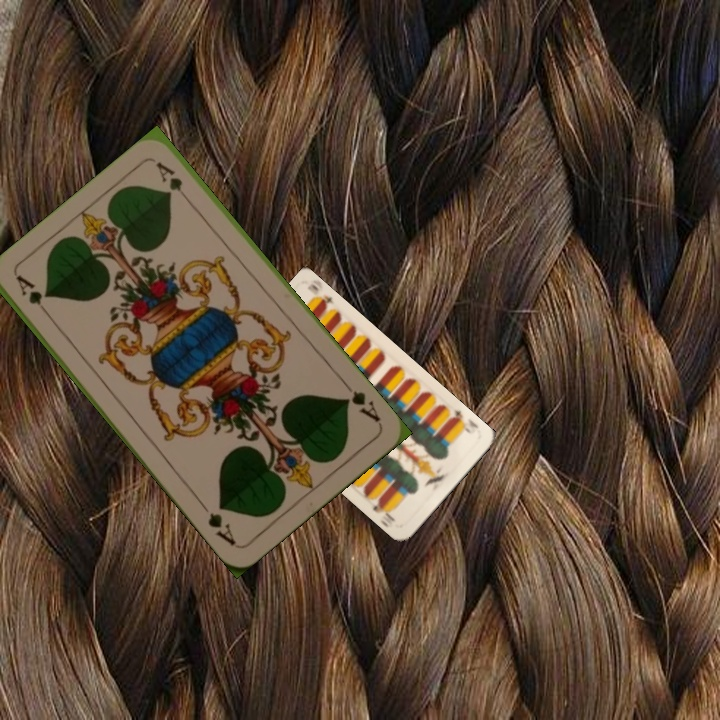E10: (445, 406, 474, 436)
GA: (12, 271, 55, 322), (339, 378, 384, 425)
